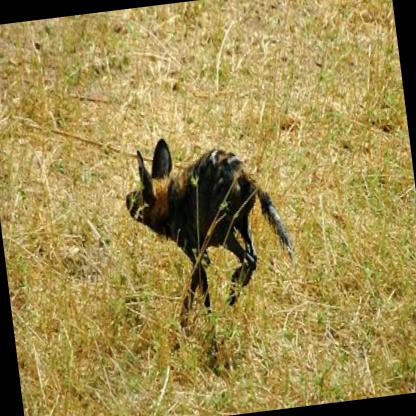African_hunting_dog: (117, 124, 299, 336)
